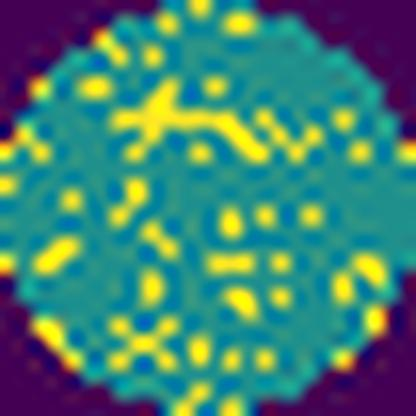Scratch: (106, 73, 274, 168)
